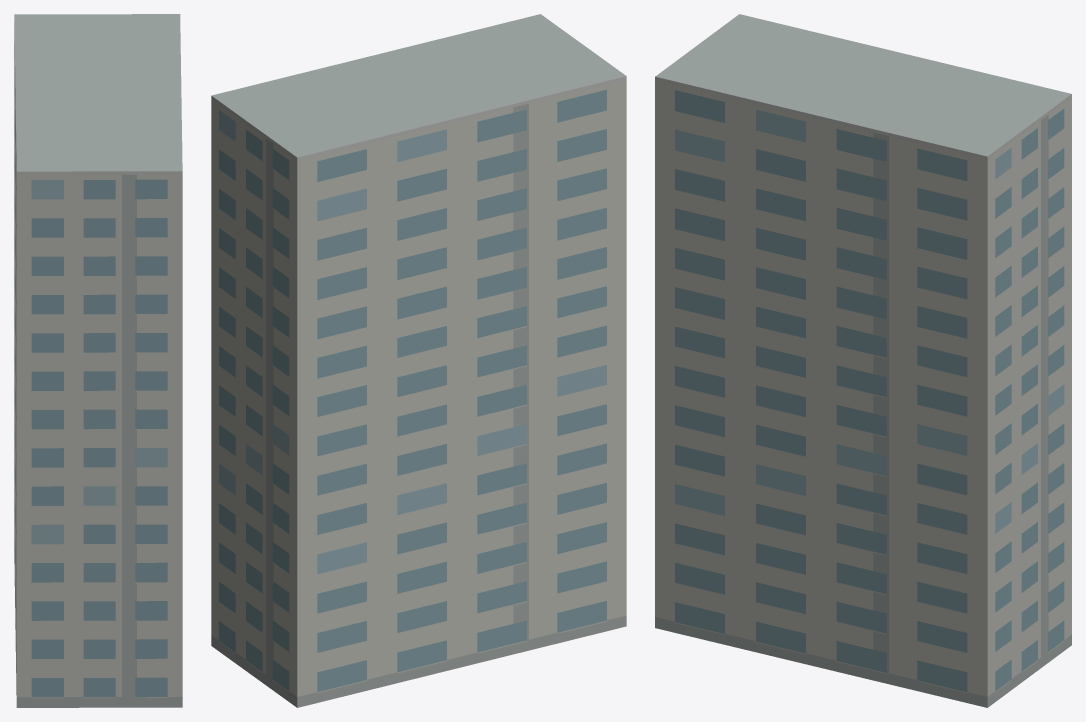
File: residential-ef800abb-b491-4047-bf8b-42ff301977f9.glb
The picture shows the model from 3 angles, left to right: view 1: azimuth 30°, elevation 25°; view 2: azimuth 150°, elevation 25°; view 3: azimuth 270°, elevation 25°; orthographic projection. The views are drawn at different scales.
Parts seen in each view (by area): view 1: residential-ef800abb-b491-4047-bf8b-42ff301977f9.tmp; view 2: residential-ef800abb-b491-4047-bf8b-42ff301977f9.tmp; view 3: residential-ef800abb-b491-4047-bf8b-42ff301977f9.tmp.
Part boxes in pixels (bbox=[...]): residential-ef800abb-b491-4047-bf8b-42ff301977f9.tmp: bbox=[14, 14, 182, 707]; residential-ef800abb-b491-4047-bf8b-42ff301977f9.tmp: bbox=[211, 14, 626, 707]; residential-ef800abb-b491-4047-bf8b-42ff301977f9.tmp: bbox=[655, 14, 1071, 707].
Bounding box in the file's own units: 22.18 × 40 × 27.41.
